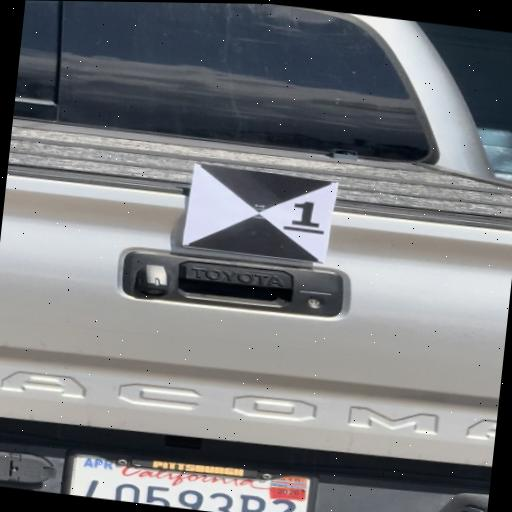target1: (188, 164, 332, 260)
